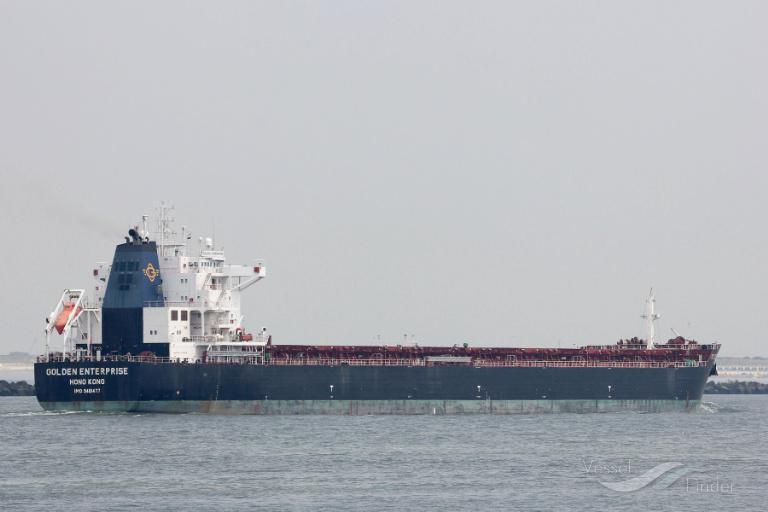OCR: (41, 364, 135, 402)
